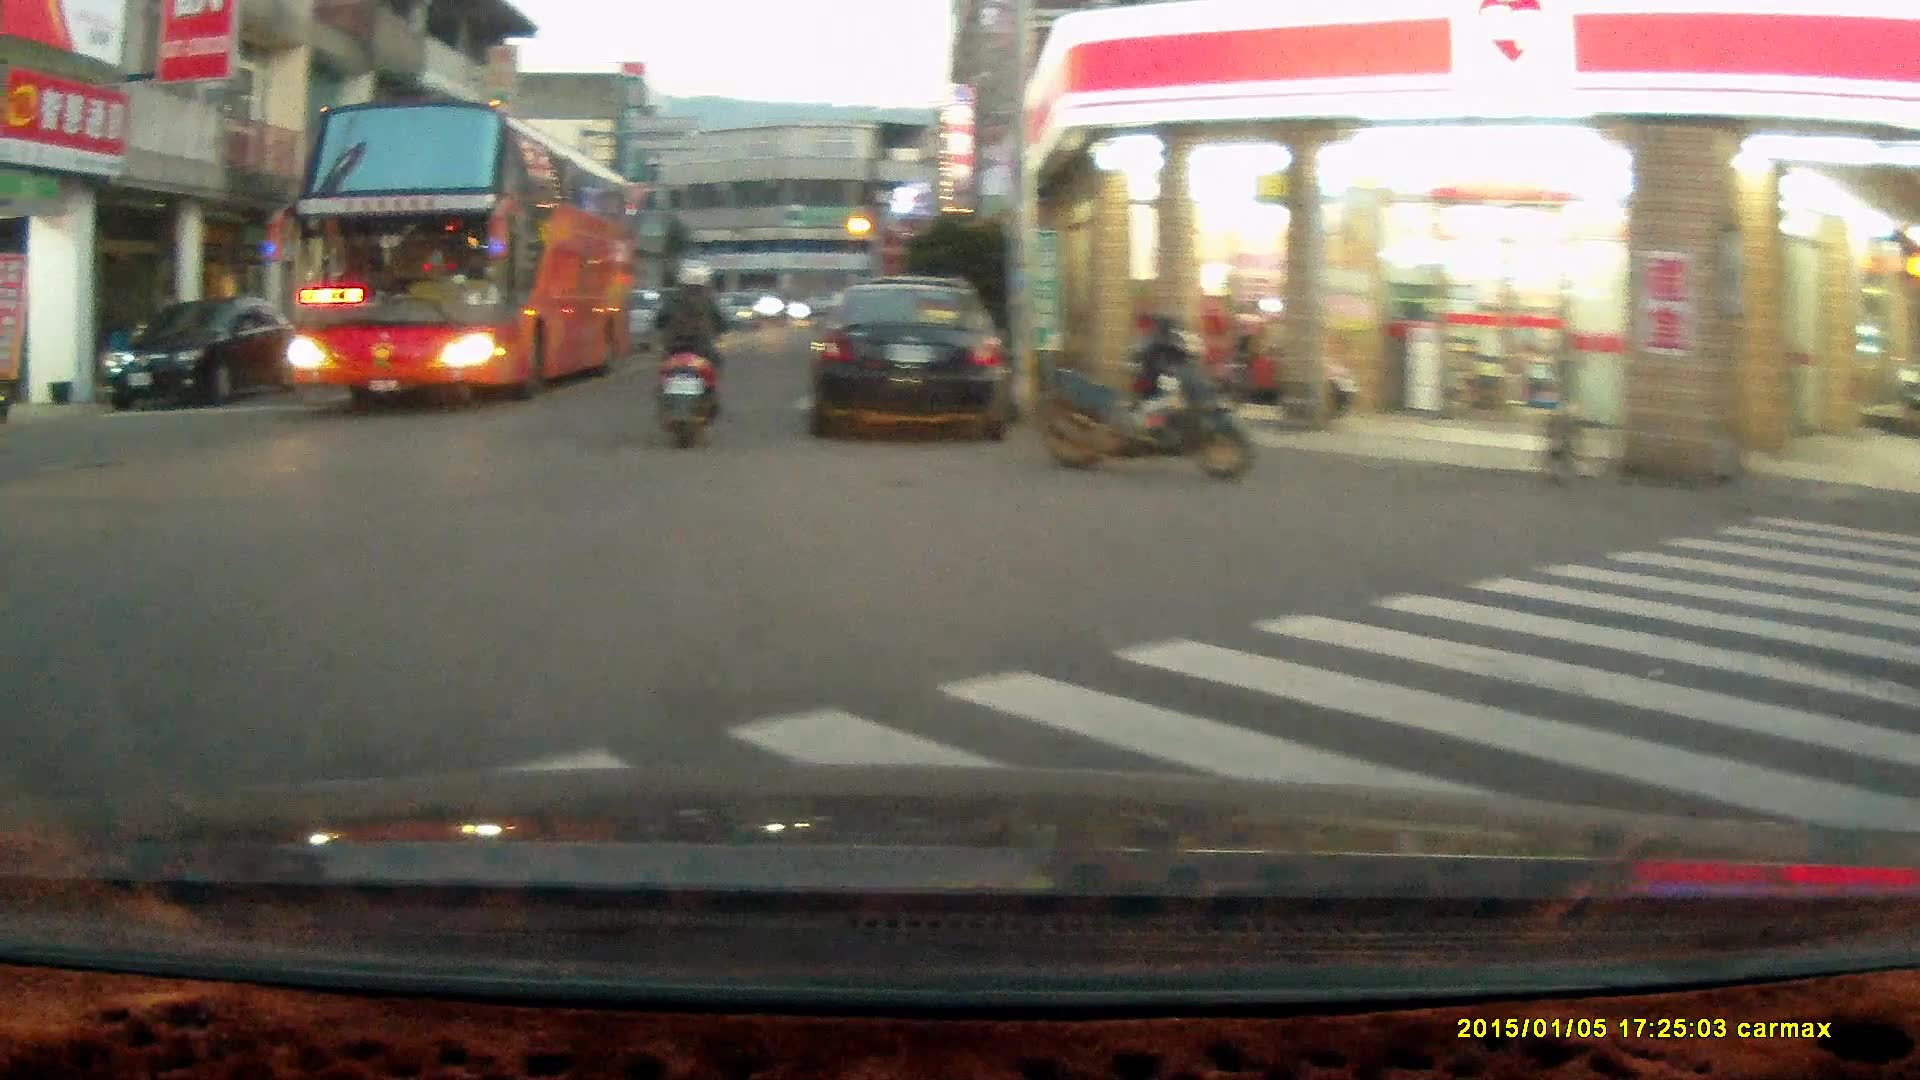rider: (638, 263, 725, 457)
vehicle: (280, 104, 639, 413), (803, 275, 1013, 437), (100, 296, 304, 408)
